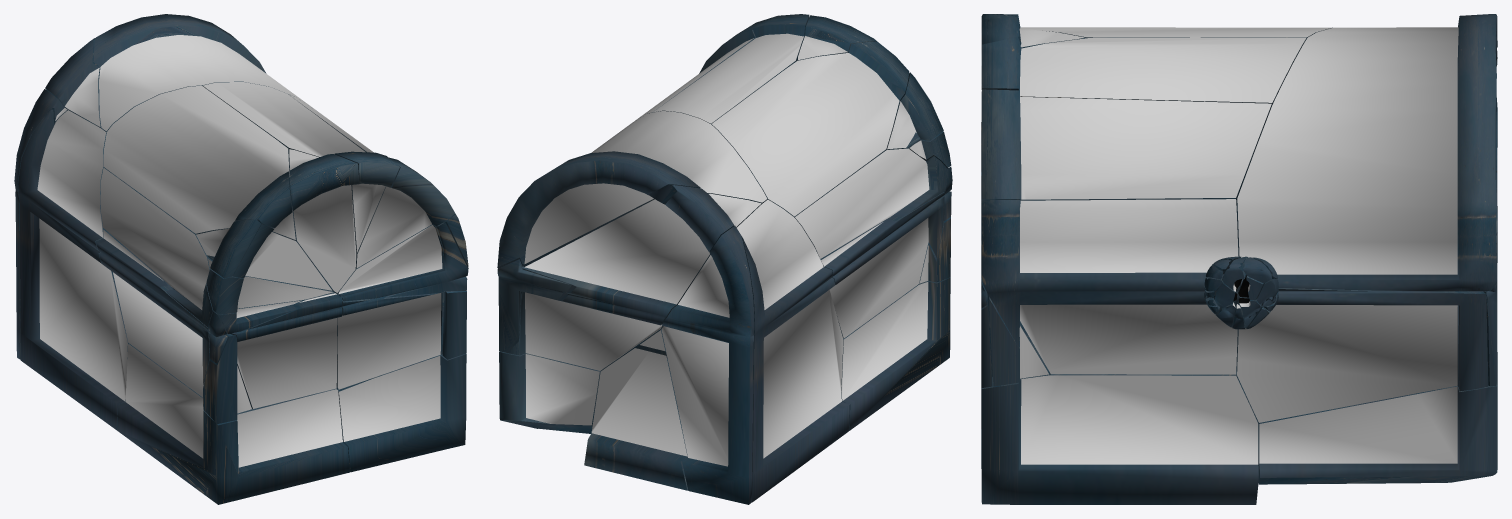
The model's file is Cofre roto.fbx.
3 views of the same model, side by side, from view 1: azimuth 30°, elevation 25°; view 2: azimuth 150°, elevation 25°; view 3: azimuth 270°, elevation 25° (orthographic). The views are drawn at different scales.
Parts seen in each view (by area): view 1: Decorative chest for games.002_cell.008, Decorative chest for games.002_cell.003, Decorative chest for games.002_cell.017, Decorative chest for games.002_cell.001, Decorative chest for games.002_cell.023, Decorative chest for games.002_cell.004, Decorative chest for games.002_cell.014, Decorative chest for games.002_cell.010, Decorative chest for games.002_cell.018, Decorative chest for games.002_cell.002, Decorative chest for games.002_cell.025, Decorative chest for games.002_cell.015 (+11 smaller); view 2: Decorative chest for games.002_cell.021, Decorative chest for games.002_cell.008, Decorative chest for games.002_cell.003, Decorative chest for games.002_cell.001, Decorative chest for games.002_cell.027, Decorative chest for games.002_cell.005, Decorative chest for games.002_cell.017, Decorative chest for games.002_cell.010, Decorative chest for games.002_cell.002, Decorative chest for games.002_cell.009, Decorative chest for games.002_cell.018, Decorative chest for games.002_cell.011 (+6 smaller); view 3: Decorative chest for games.002_cell.001, Decorative chest for games.002_cell.019, Decorative chest for games.002_cell.023, Decorative chest for games.002_cell.015, Decorative chest for games.002_cell.026, Decorative chest for games.002_cell.009, Decorative chest for games.002_cell.018, Decorative chest for games.002_cell.003, Decorative chest for games.002_cell.004, Decorative chest for games.002_cell.025, Decorative chest for games.002_cell.022, Decorative chest for games.002_cell.011 (+1 smaller).
Part boxes in pixels (x1=…): Decorative chest for games.002_cell.008: x1=18, y1=109, x2=128, y2=430; Decorative chest for games.002_cell.003: x1=103, y1=85, x2=296, y2=241; Decorative chest for games.002_cell.017: x1=117, y1=343, x2=349, y2=504; Decorative chest for games.002_cell.001: x1=93, y1=14, x2=315, y2=132; Decorative chest for games.002_cell.023: x1=336, y1=353, x2=466, y2=472; Decorative chest for games.002_cell.004: x1=332, y1=224, x2=444, y2=389; Decorative chest for games.002_cell.014: x1=230, y1=291, x2=342, y2=408; Decorative chest for games.002_cell.010: x1=95, y1=229, x2=210, y2=397; Decorative chest for games.002_cell.018: x1=203, y1=82, x2=399, y2=252; Decorative chest for games.002_cell.002: x1=100, y1=167, x2=215, y2=327; Decorative chest for games.002_cell.025: x1=289, y1=149, x2=359, y2=292; Decorative chest for games.002_cell.015: x1=289, y1=94, x2=455, y2=268; Decorative chest for games.002_cell.021: x1=503, y1=185, x2=761, y2=370; Decorative chest for games.002_cell.008: x1=737, y1=199, x2=849, y2=502; Decorative chest for games.002_cell.003: x1=711, y1=41, x2=909, y2=216; Decorative chest for games.002_cell.001: x1=497, y1=111, x2=767, y2=268; Decorative chest for games.002_cell.027: x1=661, y1=226, x2=754, y2=504; Decorative chest for games.002_cell.005: x1=584, y1=348, x2=688, y2=490; Decorative chest for games.002_cell.017: x1=841, y1=277, x2=950, y2=430; Decorative chest for games.002_cell.010: x1=820, y1=192, x2=944, y2=338; Decorative chest for games.002_cell.002: x1=794, y1=148, x2=947, y2=258; Decorative chest for games.002_cell.009: x1=499, y1=351, x2=602, y2=433; Decorative chest for games.002_cell.018: x1=653, y1=14, x2=809, y2=124; Decorative chest for games.002_cell.011: x1=497, y1=259, x2=571, y2=351; Decorative chest for games.002_cell.001: x1=1236, y1=14, x2=1497, y2=292; Decorative chest for games.002_cell.019: x1=981, y1=199, x2=1239, y2=374; Decorative chest for games.002_cell.023: x1=981, y1=366, x2=1258, y2=504; Decorative chest for games.002_cell.015: x1=981, y1=89, x2=1271, y2=205; Decorative chest for games.002_cell.026: x1=1236, y1=219, x2=1488, y2=422; Decorative chest for games.002_cell.009: x1=1258, y1=384, x2=1497, y2=484; Decorative chest for games.002_cell.018: x1=982, y1=36, x2=1306, y2=124; Decorative chest for games.002_cell.003: x1=993, y1=14, x2=1332, y2=40; Decorative chest for games.002_cell.004: x1=989, y1=297, x2=1050, y2=386; Decorative chest for games.002_cell.025: x1=981, y1=14, x2=1085, y2=65; Decorative chest for games.002_cell.022: x1=981, y1=236, x2=992, y2=388; Decorative chest for games.002_cell.011: x1=1486, y1=234, x2=1497, y2=384.
Size of the model in its own units: 74.43 by 84.82 by 99.99.
